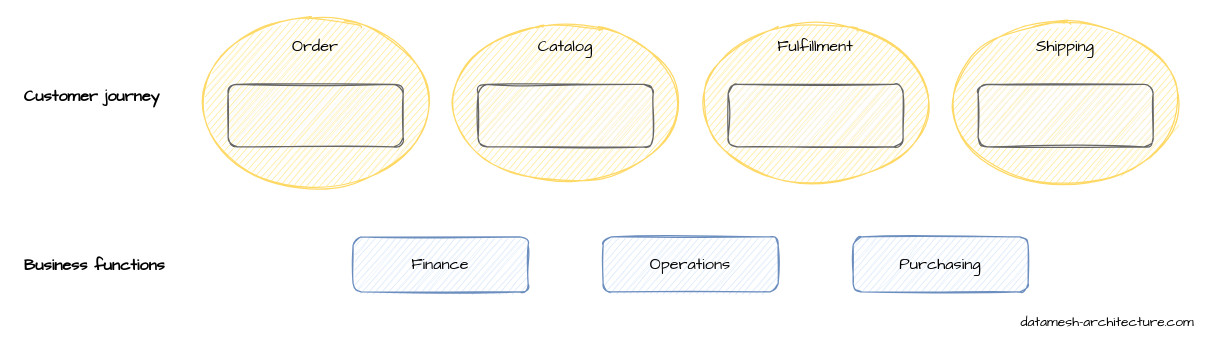
Some shapes in this 1218 by 356 pixel diagram are drawn without their labels. Each missing label, with the centre of its shape:
Catalog Service: point 565,115
Order Management System: point 315,115
Shipping Service: point 1065,115
Warehouse Management System: point 815,115
